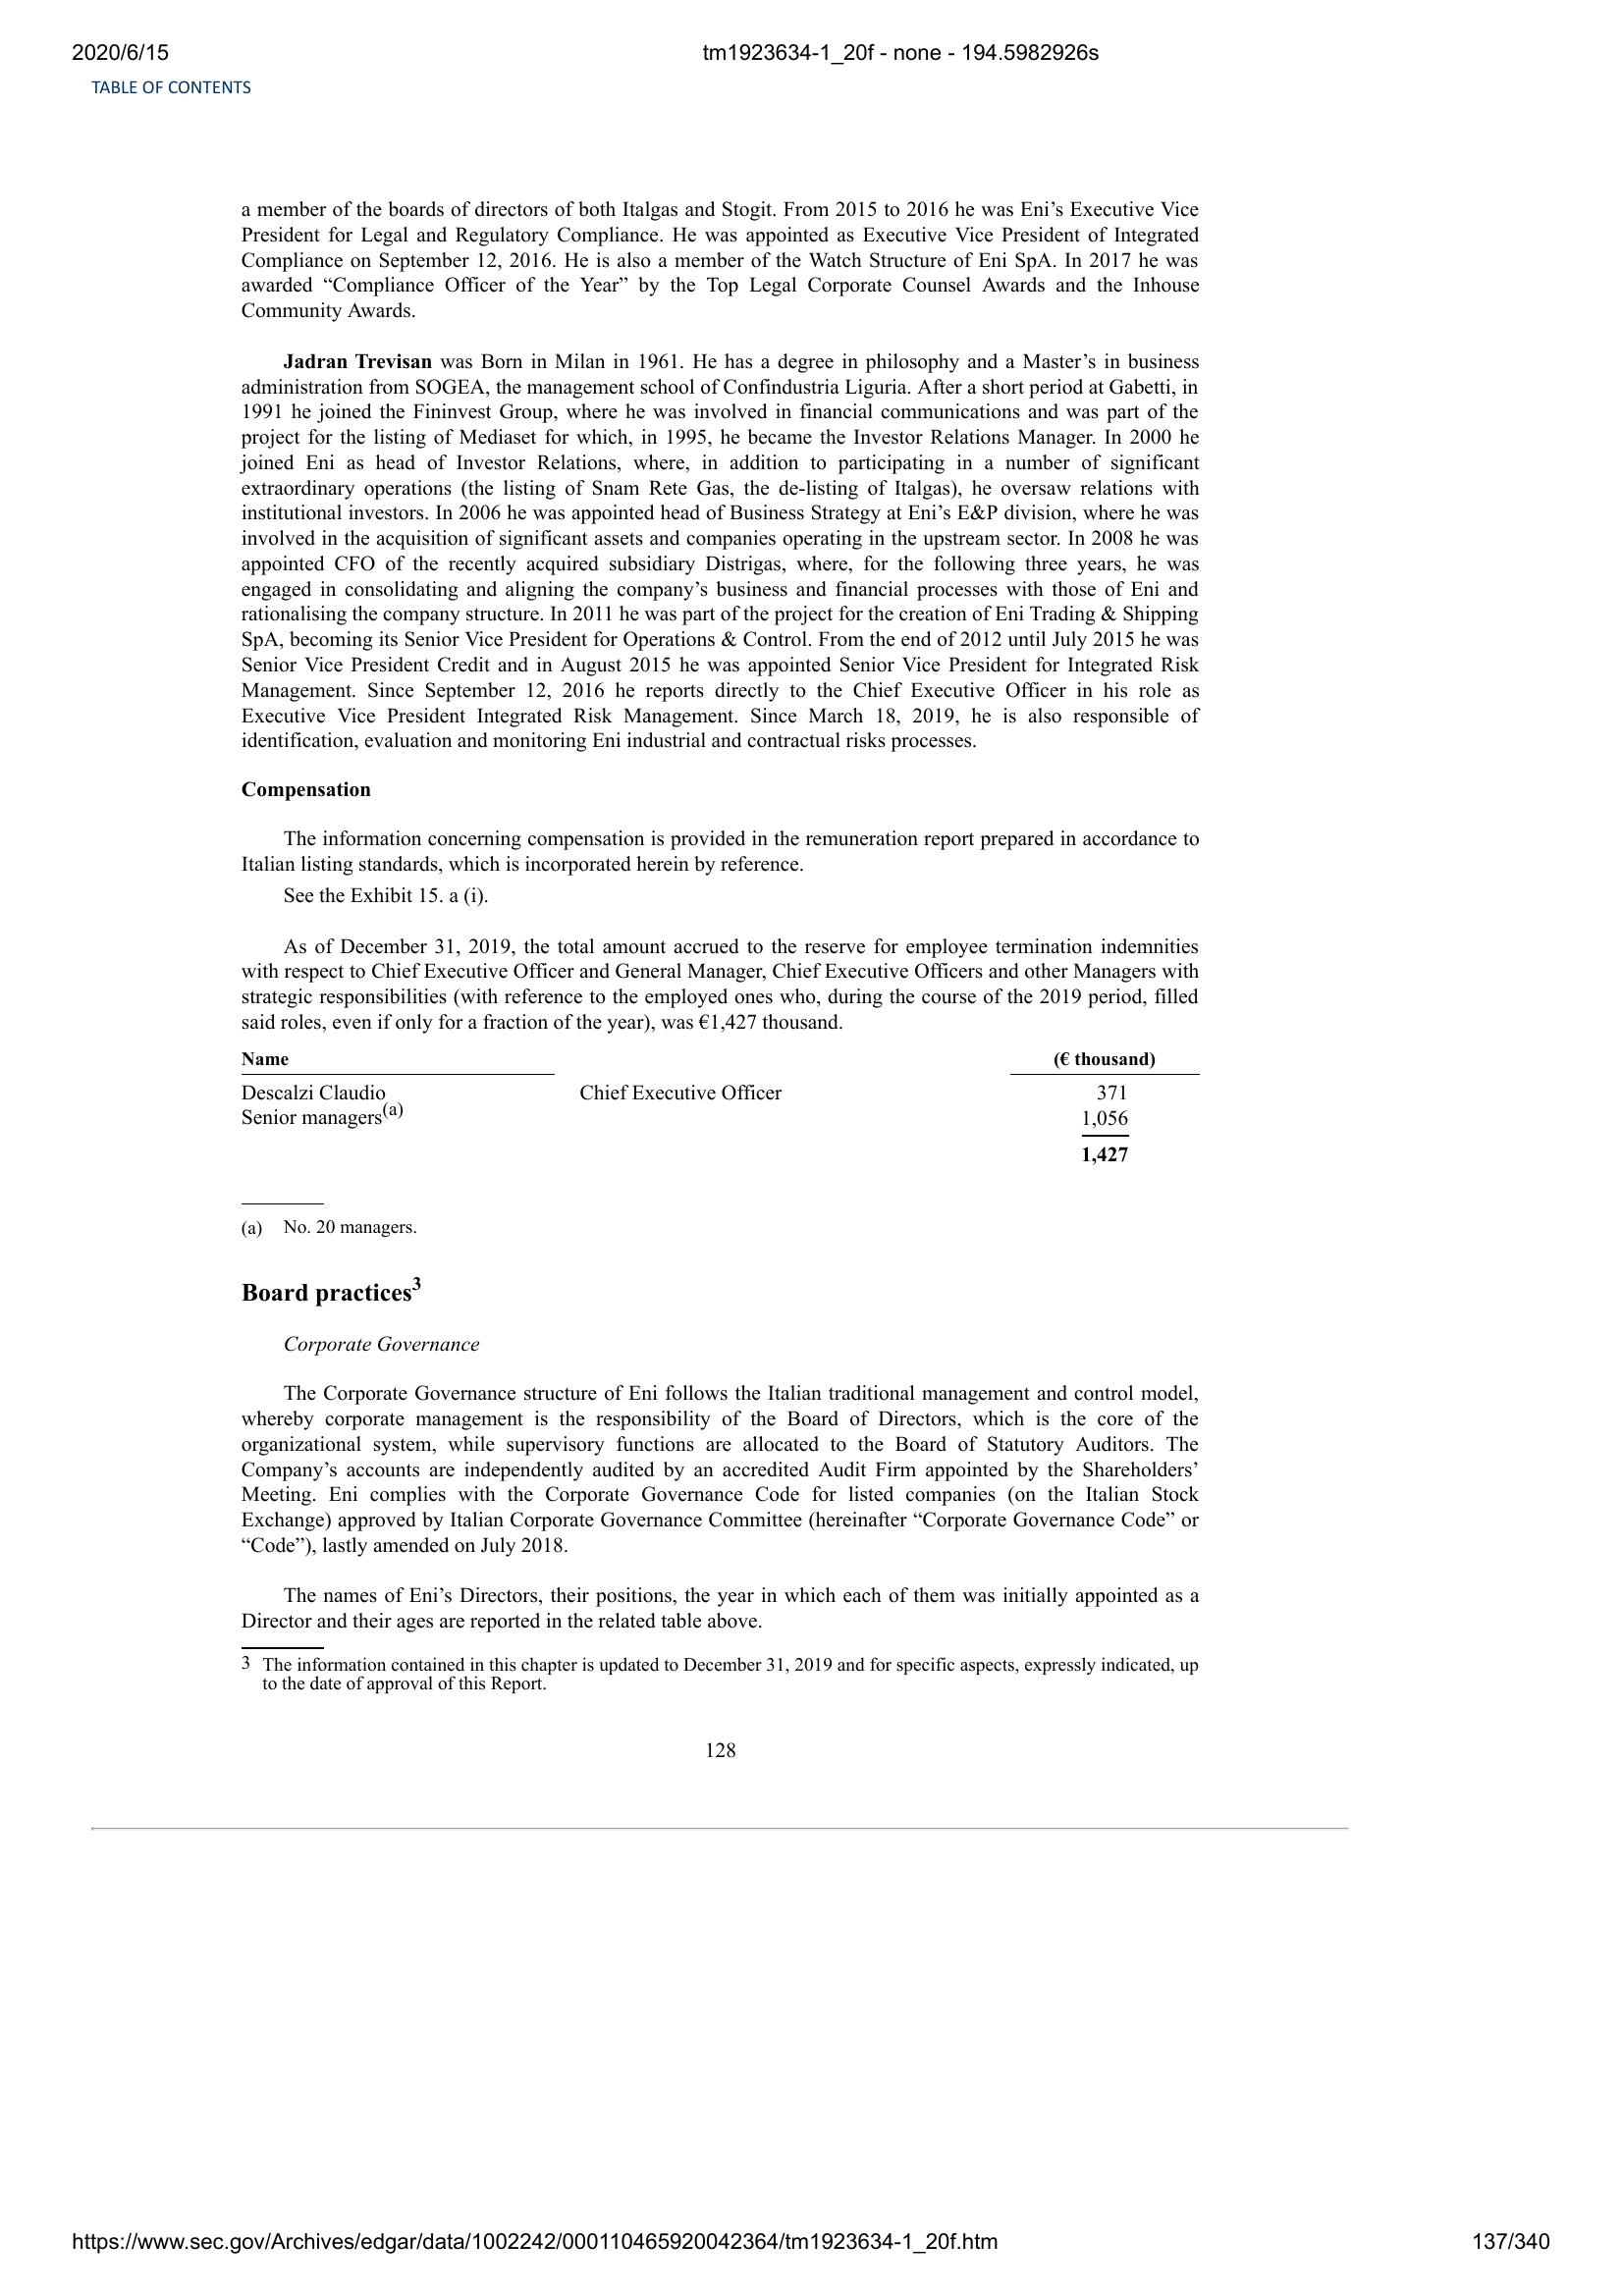table: (228, 1030, 1168, 1202)
